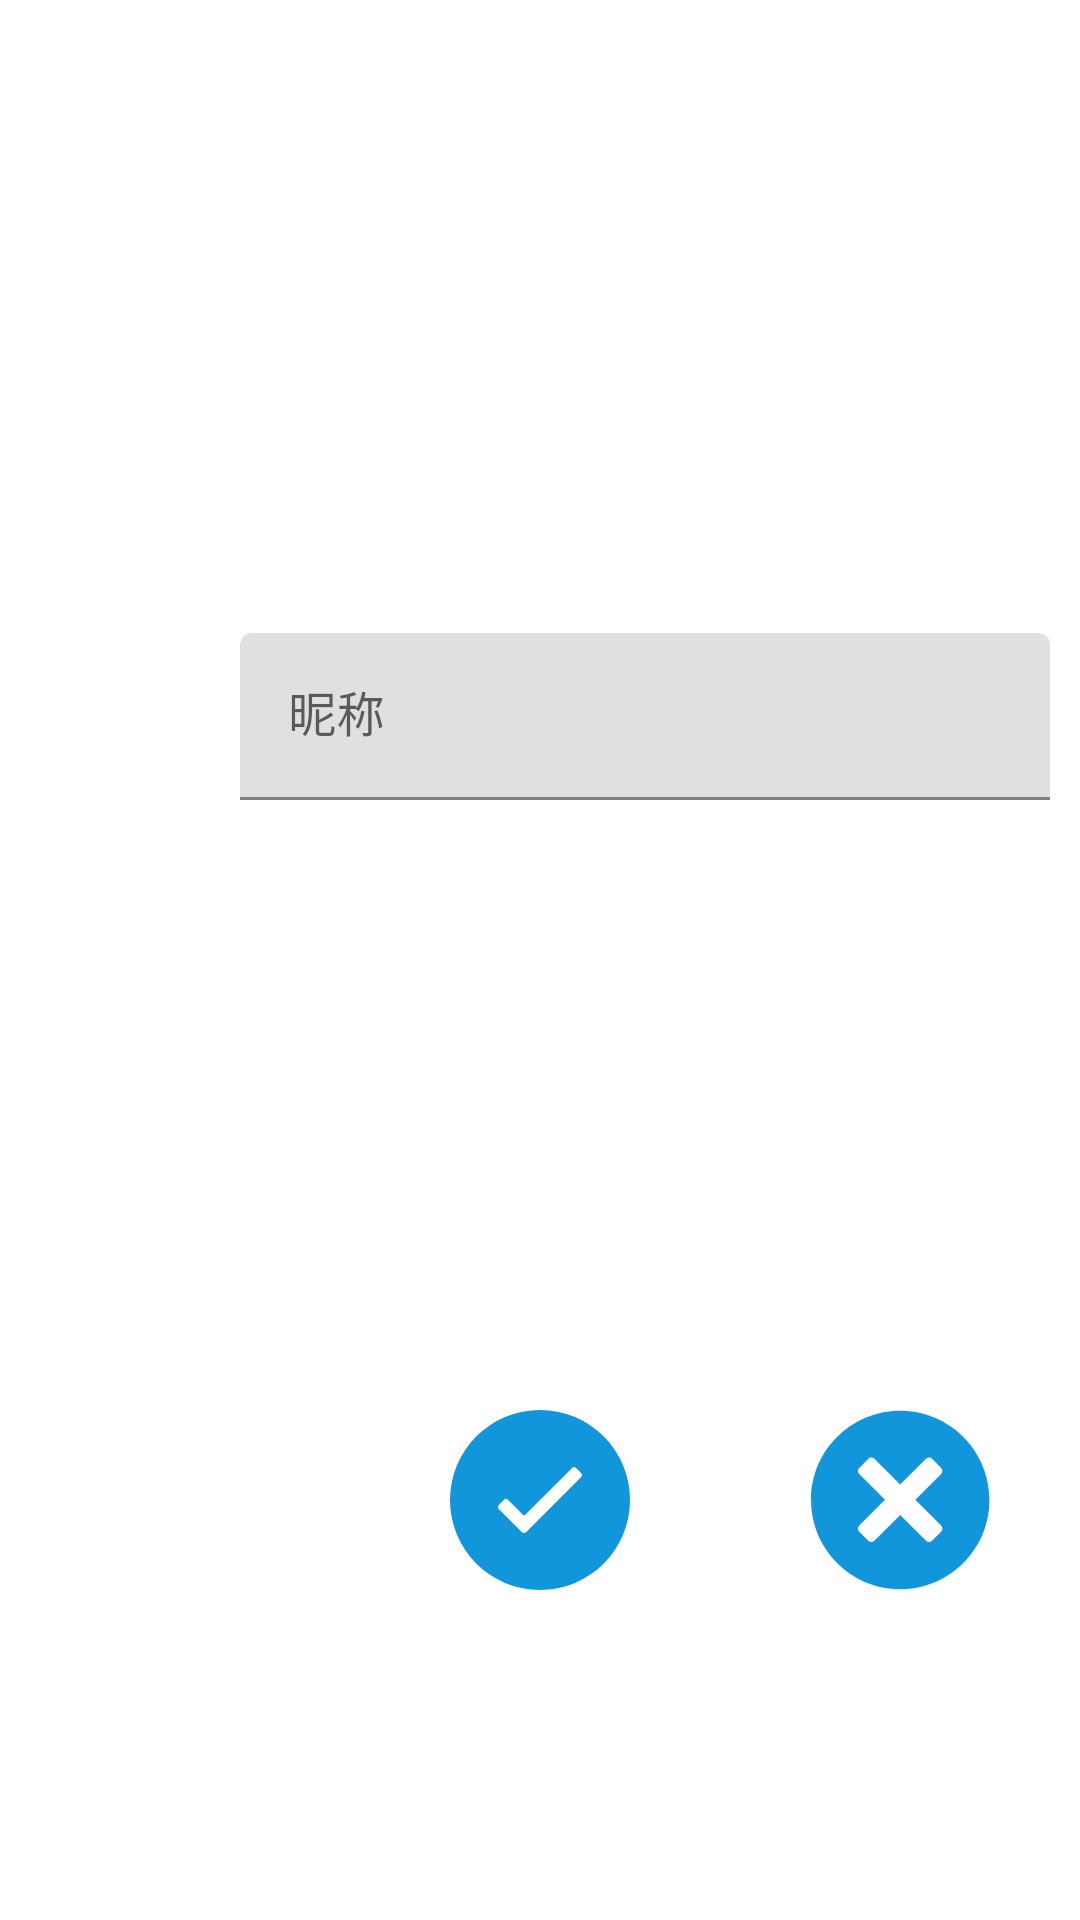

Where to tap for icons on this 1080×1920 app screen, as point (x, y):
cancel: point (900, 1500)
confirm: point (540, 1500)
